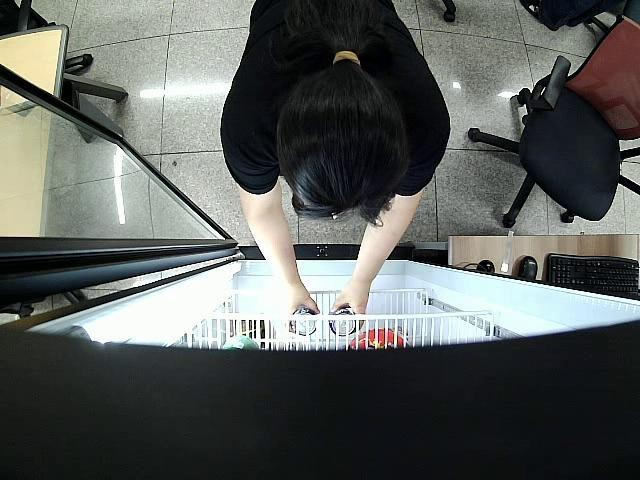14_welchsGrape: (330, 308, 357, 336), (289, 308, 318, 334)
